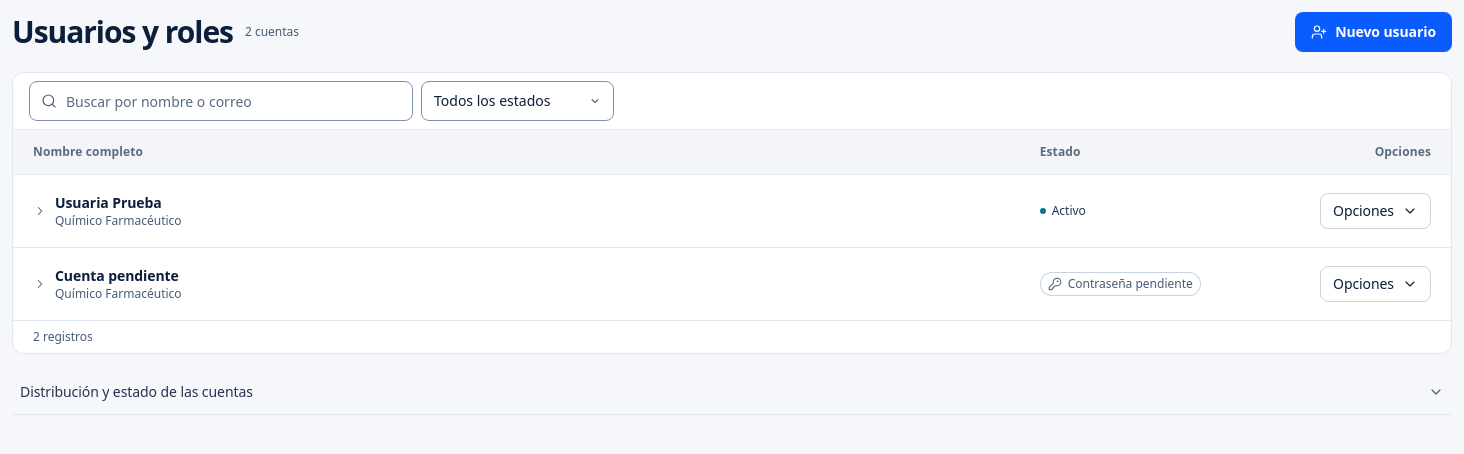
Test: UsuariosPage (HU-41, HU-45, RF-17) › muestra el correo a petición y permite encontrar las cuentas que necesitan atención
The width and height of the screenshot is (1464, 454).
Step 1. Click the heading "Usuaria Prueba Químico Farmacéutico" → (107, 212), box left=33, top=192, right=182, bottom=230
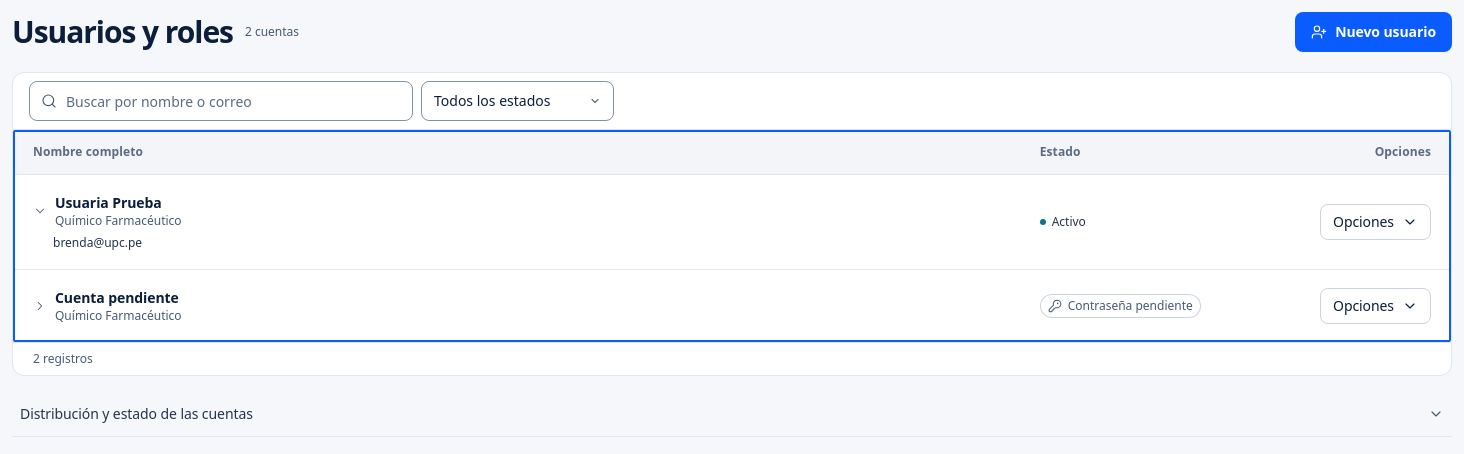
Expected: the text "brenda@upc.pe" is shown, left=53, top=234, right=142, bottom=250
Step 2. Select "Contraseña pendiente" in the dropdown named "Estado" → (518, 101), box left=421, top=81, right=614, bottom=121
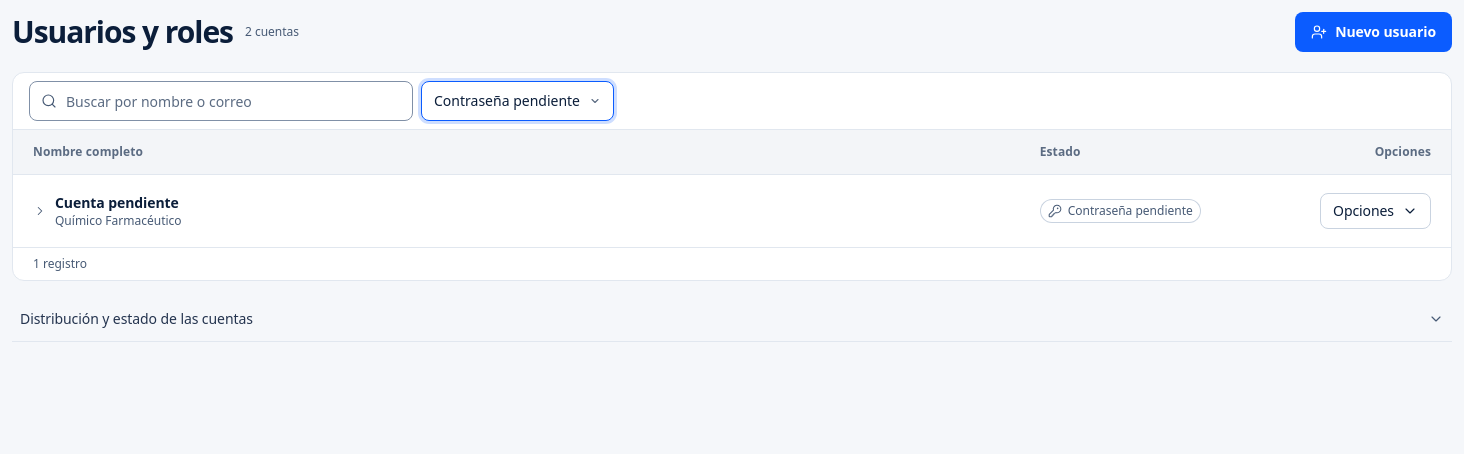
Expected: the text "Cuenta pendiente" is shown, left=55, top=192, right=182, bottom=212
Expected: the heading "Usuaria Prueba" is gone
